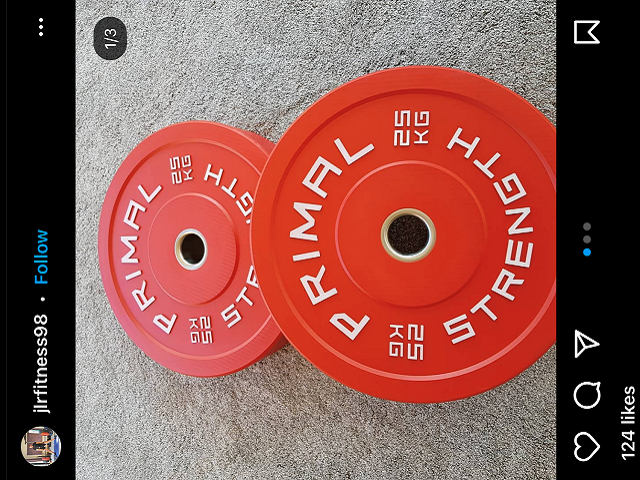weights: (248, 65, 556, 402), (95, 120, 286, 378)
